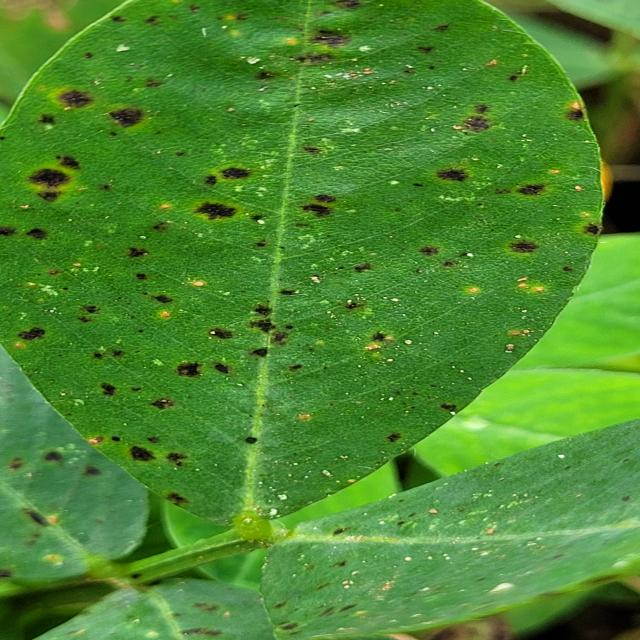Ground nut_tikka leaf spot: (1, 0, 610, 523)
